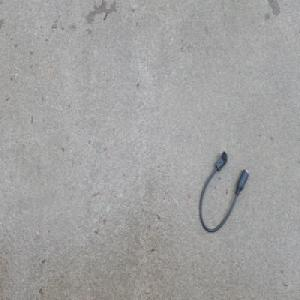Wire: (198, 149, 249, 233)
